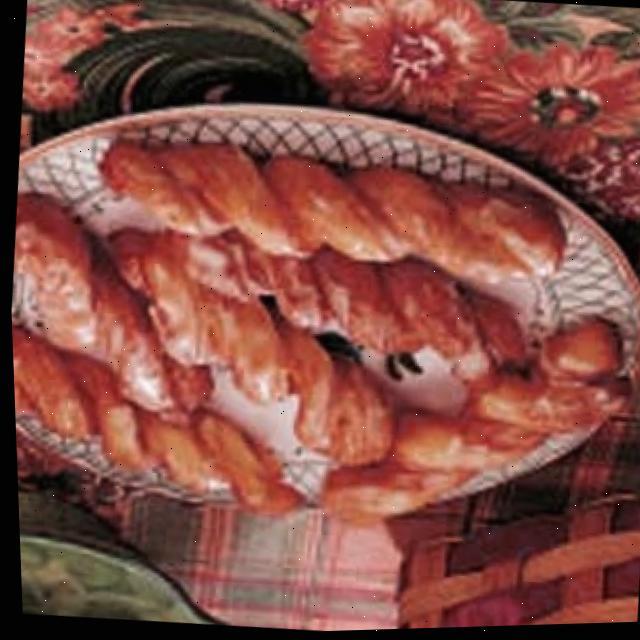炸货点心: (2, 69, 640, 569)
